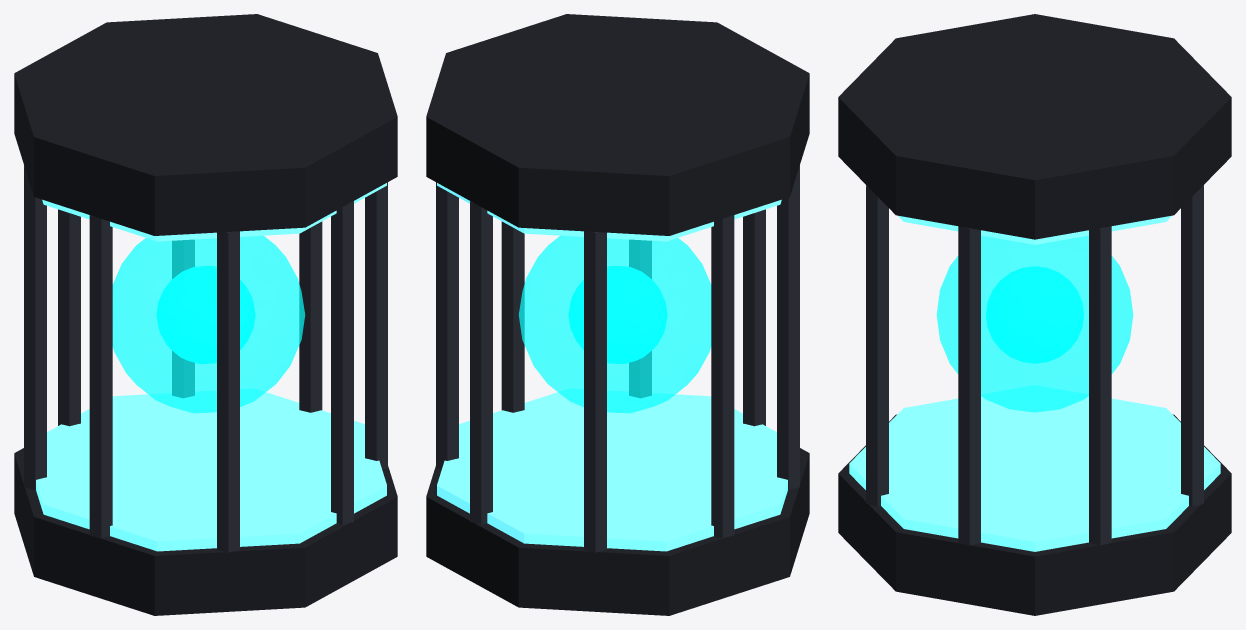
Rendered from Loot_QuantumCore.fbx.
3 views of the same model, side by side, from view 1: azimuth 30°, elevation 25°; view 2: azimuth 150°, elevation 25°; view 3: azimuth 270°, elevation 25° (orthographic).
Visible parts, largest first — view 1: Loot_QuantumCore__DarkMetal, Loot_QuantumCore__SteelPanel, Loot_QuantumCore__NeonBlue, Loot_QuantumCore__HoloCyan, Loot_QuantumCore__NeonCyan; view 2: Loot_QuantumCore__DarkMetal, Loot_QuantumCore__SteelPanel, Loot_QuantumCore__NeonBlue, Loot_QuantumCore__HoloCyan, Loot_QuantumCore__NeonCyan; view 3: Loot_QuantumCore__DarkMetal, Loot_QuantumCore__NeonBlue, Loot_QuantumCore__SteelPanel, Loot_QuantumCore__HoloCyan, Loot_QuantumCore__NeonCyan.
Part boxes in pixels (<box>): Loot_QuantumCore__DarkMetal: <box>14,14,397,615</box>; Loot_QuantumCore__SteelPanel: <box>24,165,387,552</box>; Loot_QuantumCore__NeonBlue: <box>36,183,386,551</box>; Loot_QuantumCore__HoloCyan: <box>112,235,305,413</box>; Loot_QuantumCore__NeonCyan: <box>156,266,255,363</box>; Loot_QuantumCore__DarkMetal: <box>426,14,809,615</box>; Loot_QuantumCore__SteelPanel: <box>436,165,799,552</box>; Loot_QuantumCore__NeonBlue: <box>437,183,787,551</box>; Loot_QuantumCore__HoloCyan: <box>518,235,711,413</box>; Loot_QuantumCore__NeonCyan: <box>568,266,667,363</box>; Loot_QuantumCore__DarkMetal: <box>838,14,1231,615</box>; Loot_QuantumCore__NeonBlue: <box>849,215,1220,551</box>; Loot_QuantumCore__SteelPanel: <box>866,185,1203,545</box>; Loot_QuantumCore__HoloCyan: <box>936,235,1133,412</box>; Loot_QuantumCore__NeonCyan: <box>986,266,1083,363</box>.
Size of the model in its own units: 1.8 by 2.2 by 1.8.
